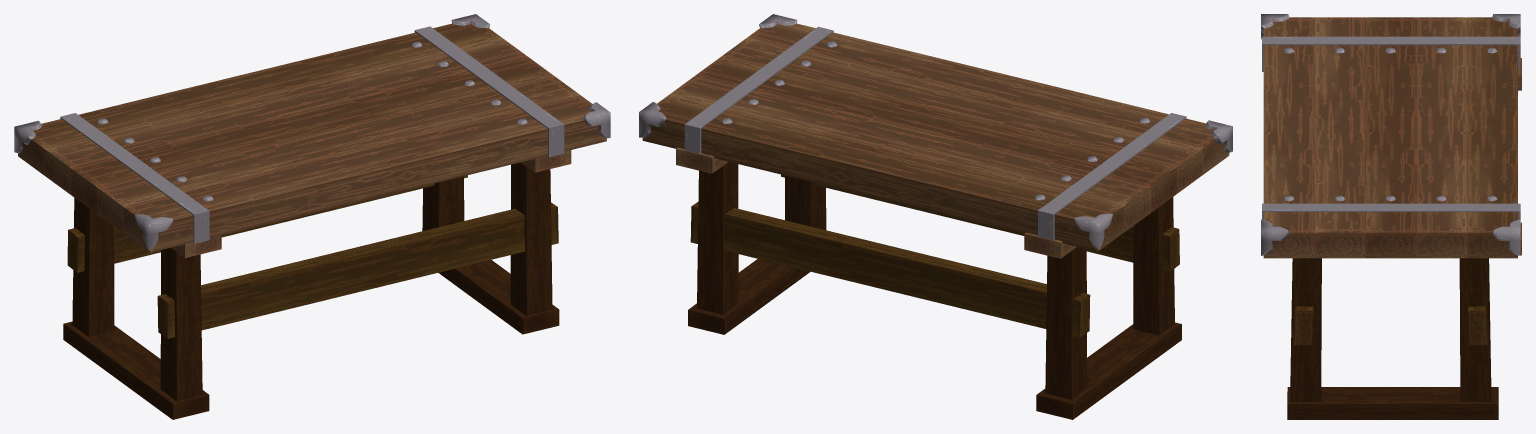
File: Workbench.gltf
The picture shows the model from 3 angles, left to right: view 1: azimuth 30°, elevation 25°; view 2: azimuth 150°, elevation 25°; view 3: azimuth 270°, elevation 25°; orthographic projection. The views are drawn at different scales.
Parts seen in each view (by area): view 1: Workbench; view 2: Workbench; view 3: Workbench.
Part boxes in pixels (left/top/right/bottom): Workbench: left=14, top=14, right=610, bottom=419; Workbench: left=639, top=14, right=1232, bottom=419; Workbench: left=1261, top=14, right=1521, bottom=419.
Bounding box in the file's own units: 2.02 × 0.8946 × 1.02.
2 materials, 2 textured.
